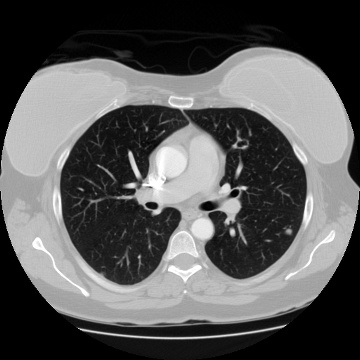PN: (284, 227, 292, 235)
